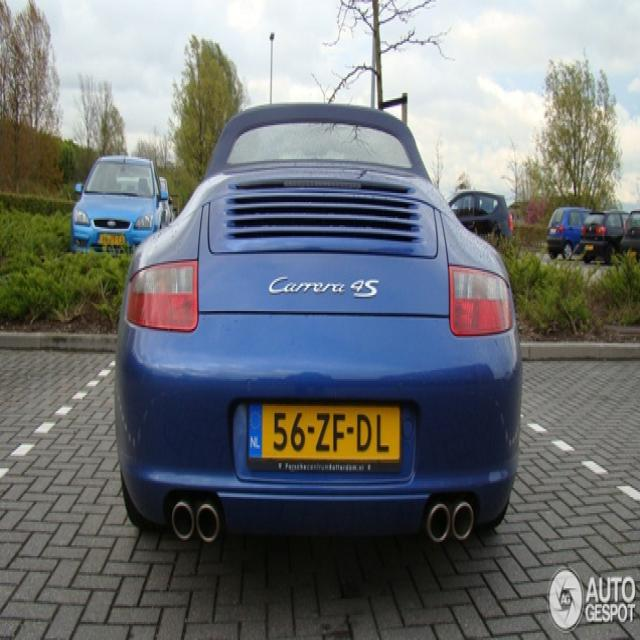number_plate: (245, 394, 404, 459)
